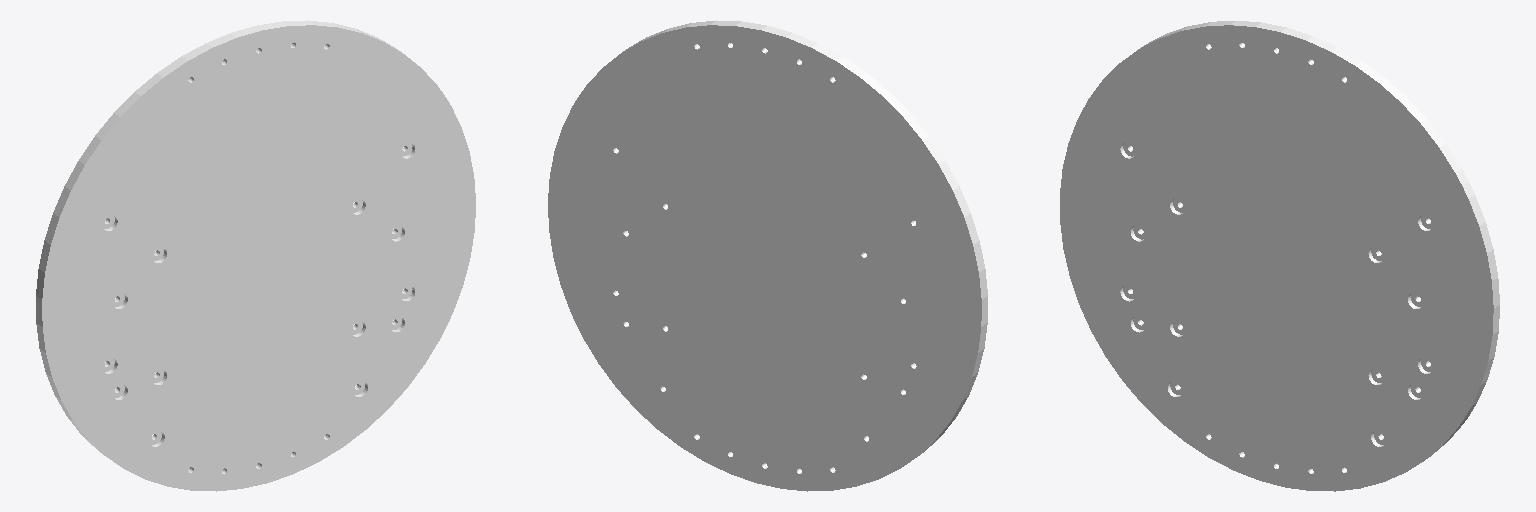
URDF robot description (pc_base_up):
<?xml version="1.0" encoding="utf-8"?>
<!-- This URDF was automatically created by SolidWorks to URDF Exporter! Originally created by [author] ([email redacted]) 
     Commit Version: 1.5.1-0-g916b5db  Build Version: 1.5.7152.31018
     For more information, please see http://wiki.ros.org/sw_urdf_exporter -->
<robot
  name="pc_base_up">
  <link
    name="pc_base_up">
    <inertial>
      <origin
        xyz="-9.1158E-14 -0.1345 8.54730000000082E-05"
        rpy="0 0 0" />
      <mass
        value="0.85743" />
      <inertia
        ixx="0.0065912"
        ixy="-1.23236927598144E-20"
        ixz="1.1314E-08"
        iyy="0.013191"
        iyz="-4.28040506153409E-19"
        izz="0.0066118" />
    </inertial>
    <visual>
      <origin
        xyz="0 0 0"
        rpy="1.5707963267949 0 0" />
      <geometry>
        <mesh
          filename="package://pc_base_up/meshes/pc_base_up.STL" />
      </geometry>
      <material
        name="">
        <color
          rgba="1 1 1 1" />
        <texture
          filename="package://pc_base_up/textures/" />
      </material>
    </visual>
    <collision>
      <origin
        xyz="0 0 0"
        rpy="1.5707963267949 0 0" />
      <geometry>
        <mesh
          filename="package://pc_base_up/meshes/pc_base_up.STL" />
      </geometry>
    </collision>
  </link>
</robot>

--- What the picture shows (computed from the rendered views, not written in the file) ---
Views: 3 orthographic renders of the robot side by side, from view 1: azimuth 30°, elevation 25°; view 2: azimuth 150°, elevation 25°; view 3: azimuth 330°, elevation 25°.
Robot: pc_base_up — 1 links, 0 joints (none); root link pc_base_up; default pose: every joint at zero.
Visible links, largest first — view 1: pc_base_up; view 2: pc_base_up; view 3: pc_base_up.
Link boxes in pixels (x1=…): pc_base_up: x1=36, y1=20, x2=475, y2=491; pc_base_up: x1=548, y1=20, x2=987, y2=491; pc_base_up: x1=1060, y1=21, x2=1499, y2=491.
Bounding box of the posed robot: 0.3498 × 0.009 × 0.3498 m (x, y, z).
Meshes: 1 distinct files referenced, 1 mesh visuals loaded (1 binary STL).
